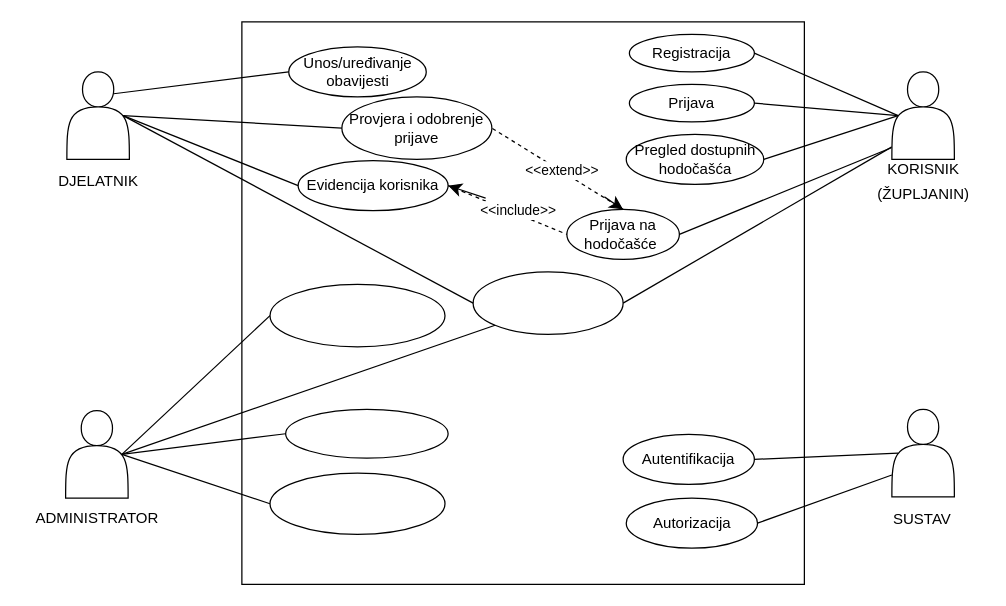
Image size: 1006x606. Some labels were removed from this diagram. The centre of each missing label's shape, as x and y in pixels:
Pregled župnih obavijesti i aktivnosti: the point at 547,302
Unos, uređivanje i brisanje novih obavijesti: the point at 357,315
Upravljanje djelatnicima i korisnicima: the point at 357,503
Upravljanje sustavom: the point at 366,433
